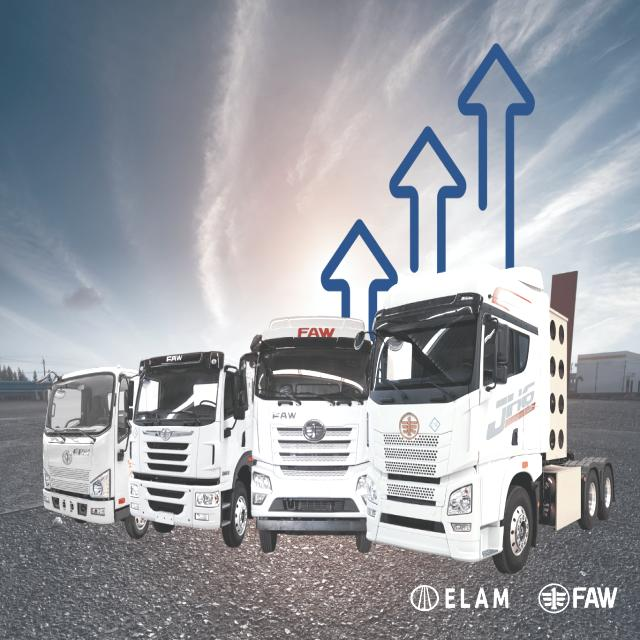TRUCK: (369, 267, 619, 570), (247, 313, 374, 544), (128, 348, 251, 538), (40, 367, 144, 528)
